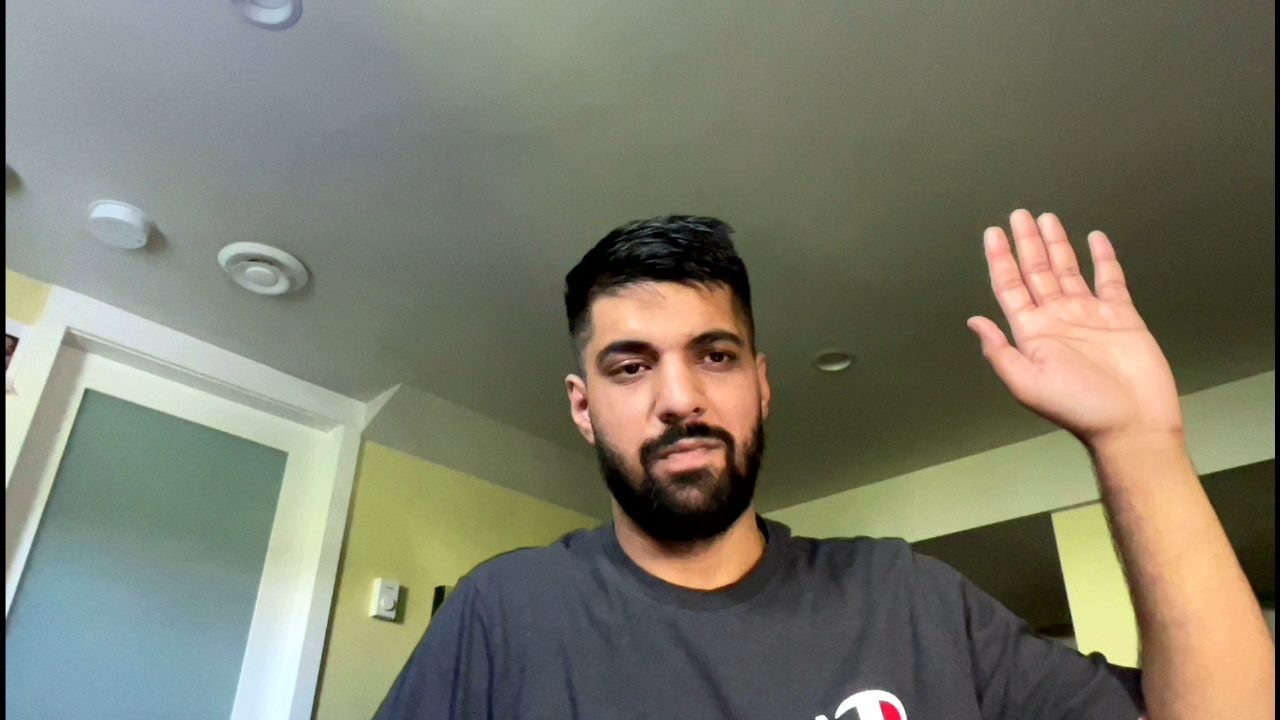Hey!: (961, 200, 1198, 437)
